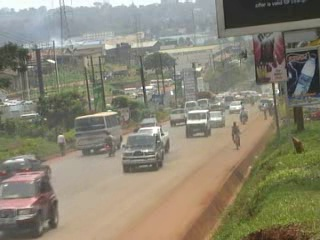Car: (1, 168, 60, 238), (121, 129, 164, 173), (0, 153, 53, 186), (184, 107, 212, 141), (207, 109, 226, 130), (139, 114, 160, 132), (227, 99, 243, 114)
Motorcycle: (103, 130, 120, 160), (239, 105, 249, 126)
